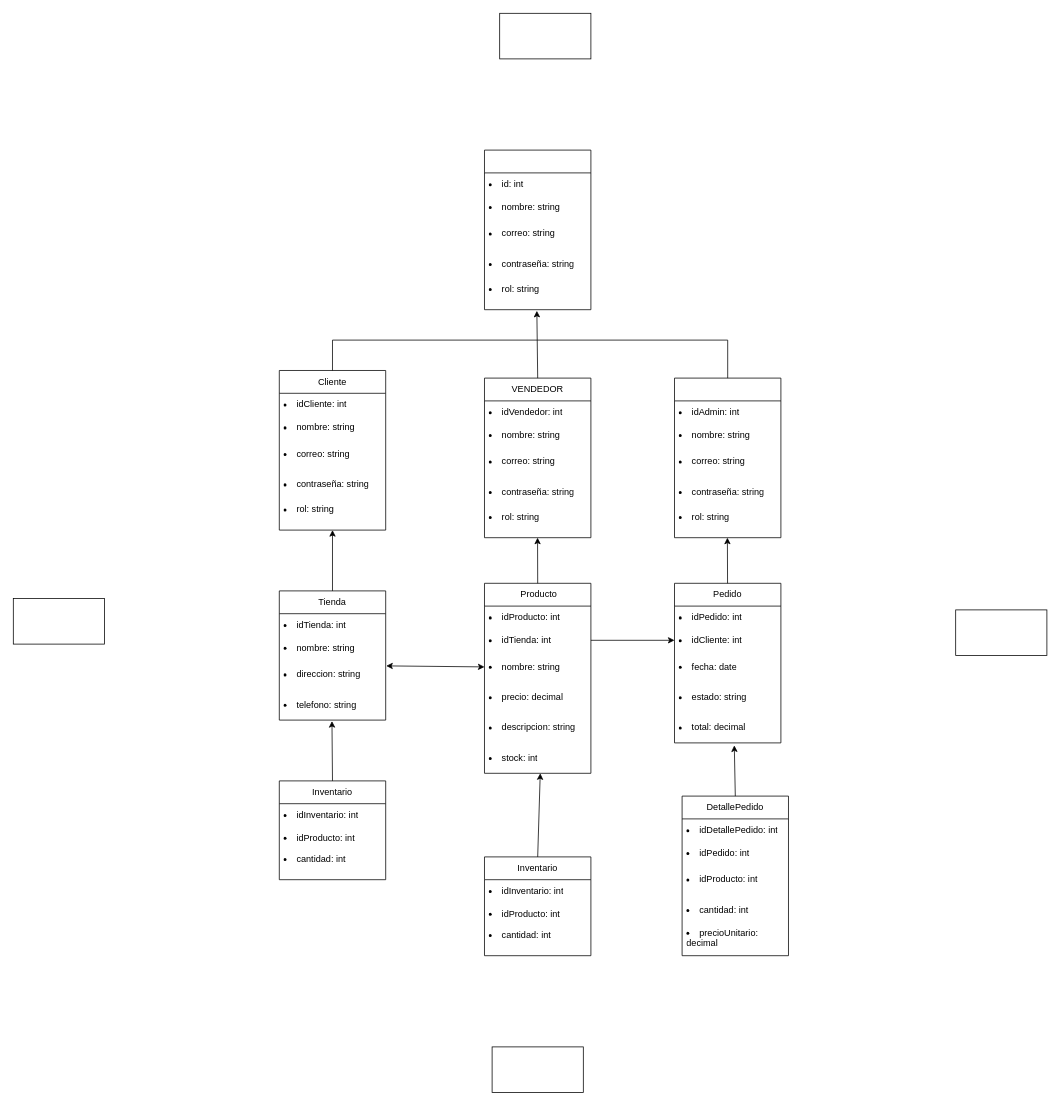
Some shapes in this 1060 by 1106 pixel diagram are drawn without their labels. Here are the shapes that lost their labels. From the top down, the box of each, then its label:
(484, 149, 591, 310): Usuario
(674, 377, 781, 538): Administrador
